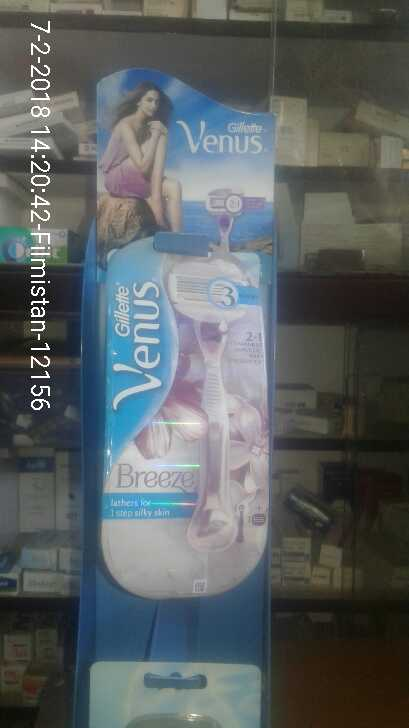venus: (99, 234, 277, 611)
